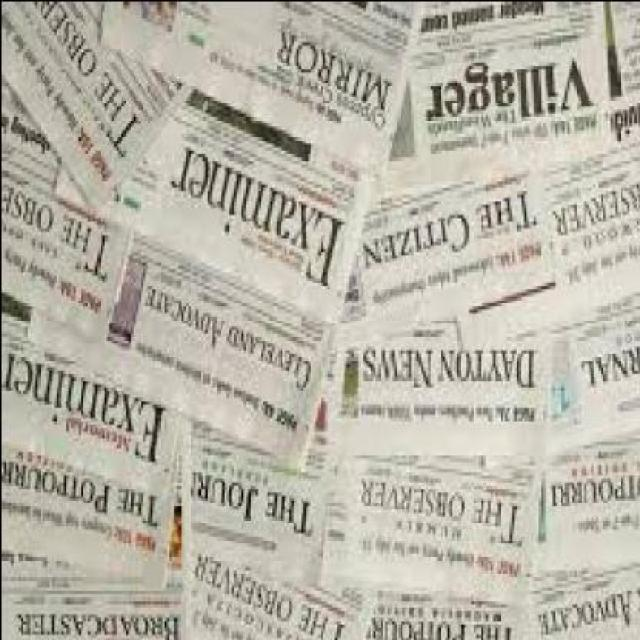PAPER: (1, 1, 638, 638), (52, 68, 378, 329), (29, 220, 338, 474), (100, 3, 425, 180), (374, 3, 614, 203), (2, 3, 196, 211), (2, 427, 190, 639), (2, 298, 180, 500), (2, 92, 135, 346), (364, 176, 561, 329), (334, 468, 546, 606), (336, 328, 549, 464), (192, 417, 333, 595), (2, 464, 178, 590), (551, 165, 638, 329), (186, 562, 365, 640), (550, 318, 638, 458), (546, 460, 639, 569), (367, 596, 544, 639), (543, 568, 639, 638), (614, 3, 638, 160)
